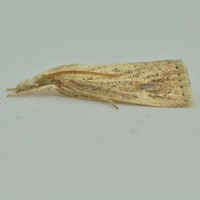insect: (7, 60, 192, 108)
